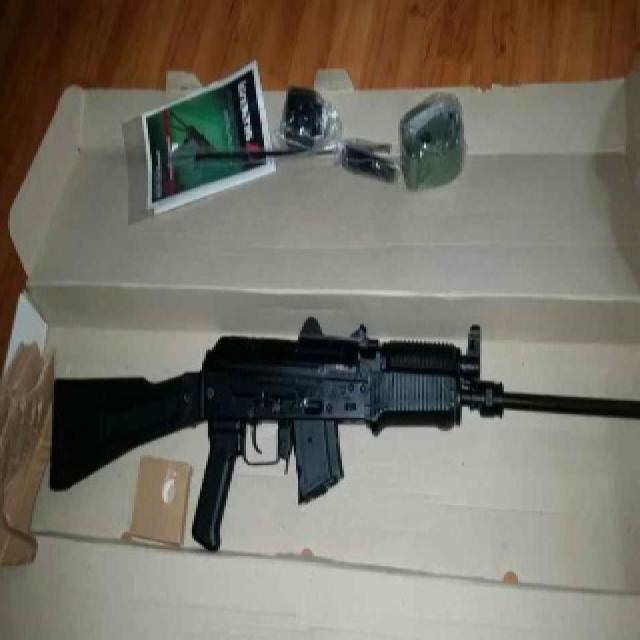rifle: (47, 321, 635, 553)
